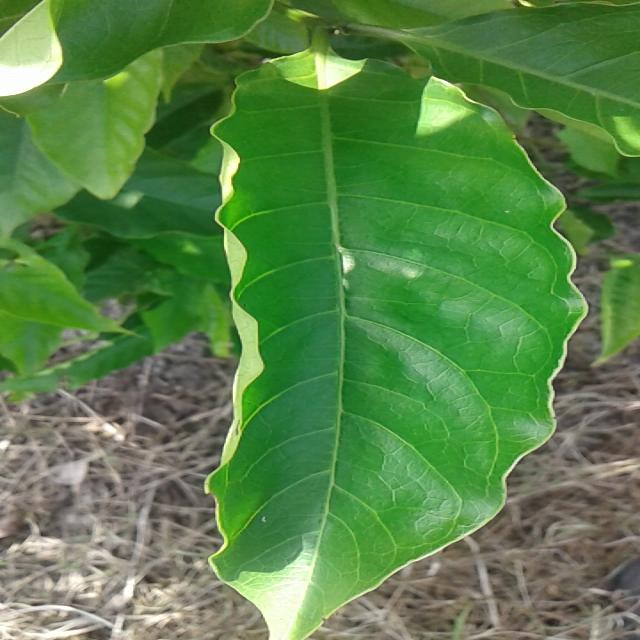Sanas: (204, 55, 588, 640)
